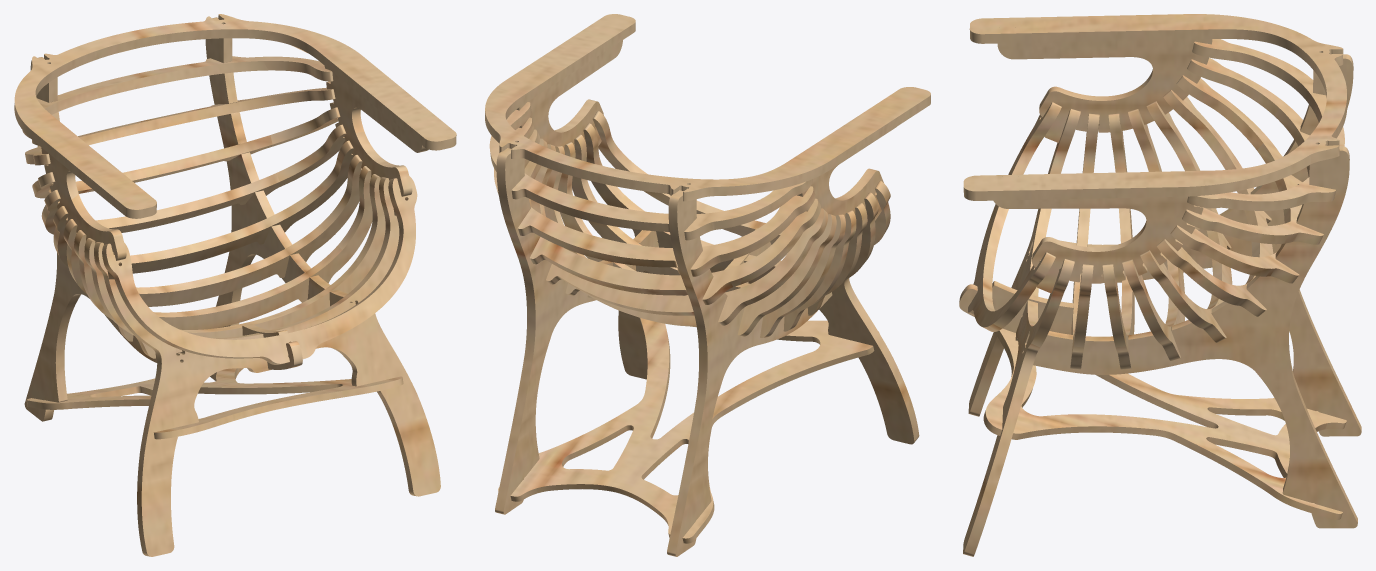
File: wood.glb
3 renders of one model, left to right at view 1: azimuth 30°, elevation 25°; view 2: azimuth 150°, elevation 25°; view 3: azimuth 270°, elevation 25°, orthographic. The views are drawn at different scales.
Parts seen in each view (by area): view 1: Merged Objects 2; view 2: Merged Objects 2; view 3: Merged Objects 2.
Boxes of the visible parts, box(x1,y1,x2,y2) form: Merged Objects 2: box(14, 14, 456, 556); Merged Objects 2: box(485, 14, 930, 556); Merged Objects 2: box(959, 14, 1361, 556).
Size of the model in its own units: 0.6863 by 0.7245 by 0.6774.
1 material, 1 textured.
